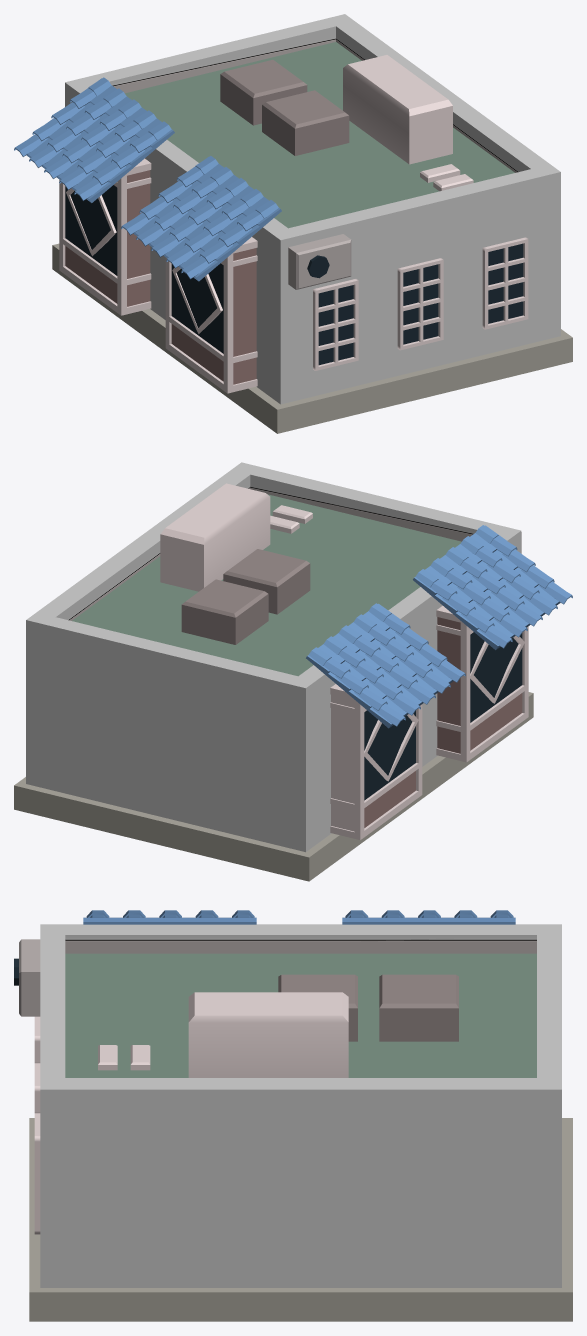
Rendered from building05_Mark2.fbx.
3 views of the same model, one above another, from view 1: azimuth 30°, elevation 25°; view 2: azimuth 150°, elevation 25°; view 3: azimuth 270°, elevation 25° (orthographic). The views are drawn at different scales.
Parts seen in each view (by area): view 1: building05_Mark2; view 2: building05_Mark2; view 3: building05_Mark2.
Part boxes in pixels (left/top/right/bottom): building05_Mark2: left=14, top=14, right=572, bottom=433; building05_Mark2: left=14, top=462, right=572, bottom=881; building05_Mark2: left=14, top=910, right=572, bottom=1321.
Size of the model in its own units: 96.72 by 108 by 57.97.
